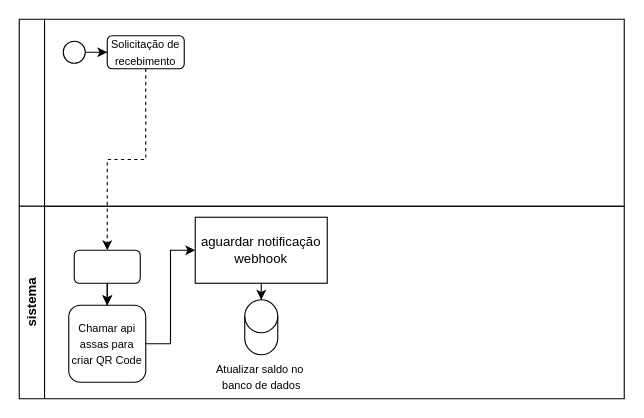
The diagram is 644 pixels wide and 418 high, and some of its shapes have lost their labels. The shapes that lost their labels are listed below. From the top down, each one's box as (x1, y1, x2, y2) in pixels, then its label:
(18, 18, 624, 206): Usuário
(73, 249, 140, 283): Gerar QR Code
